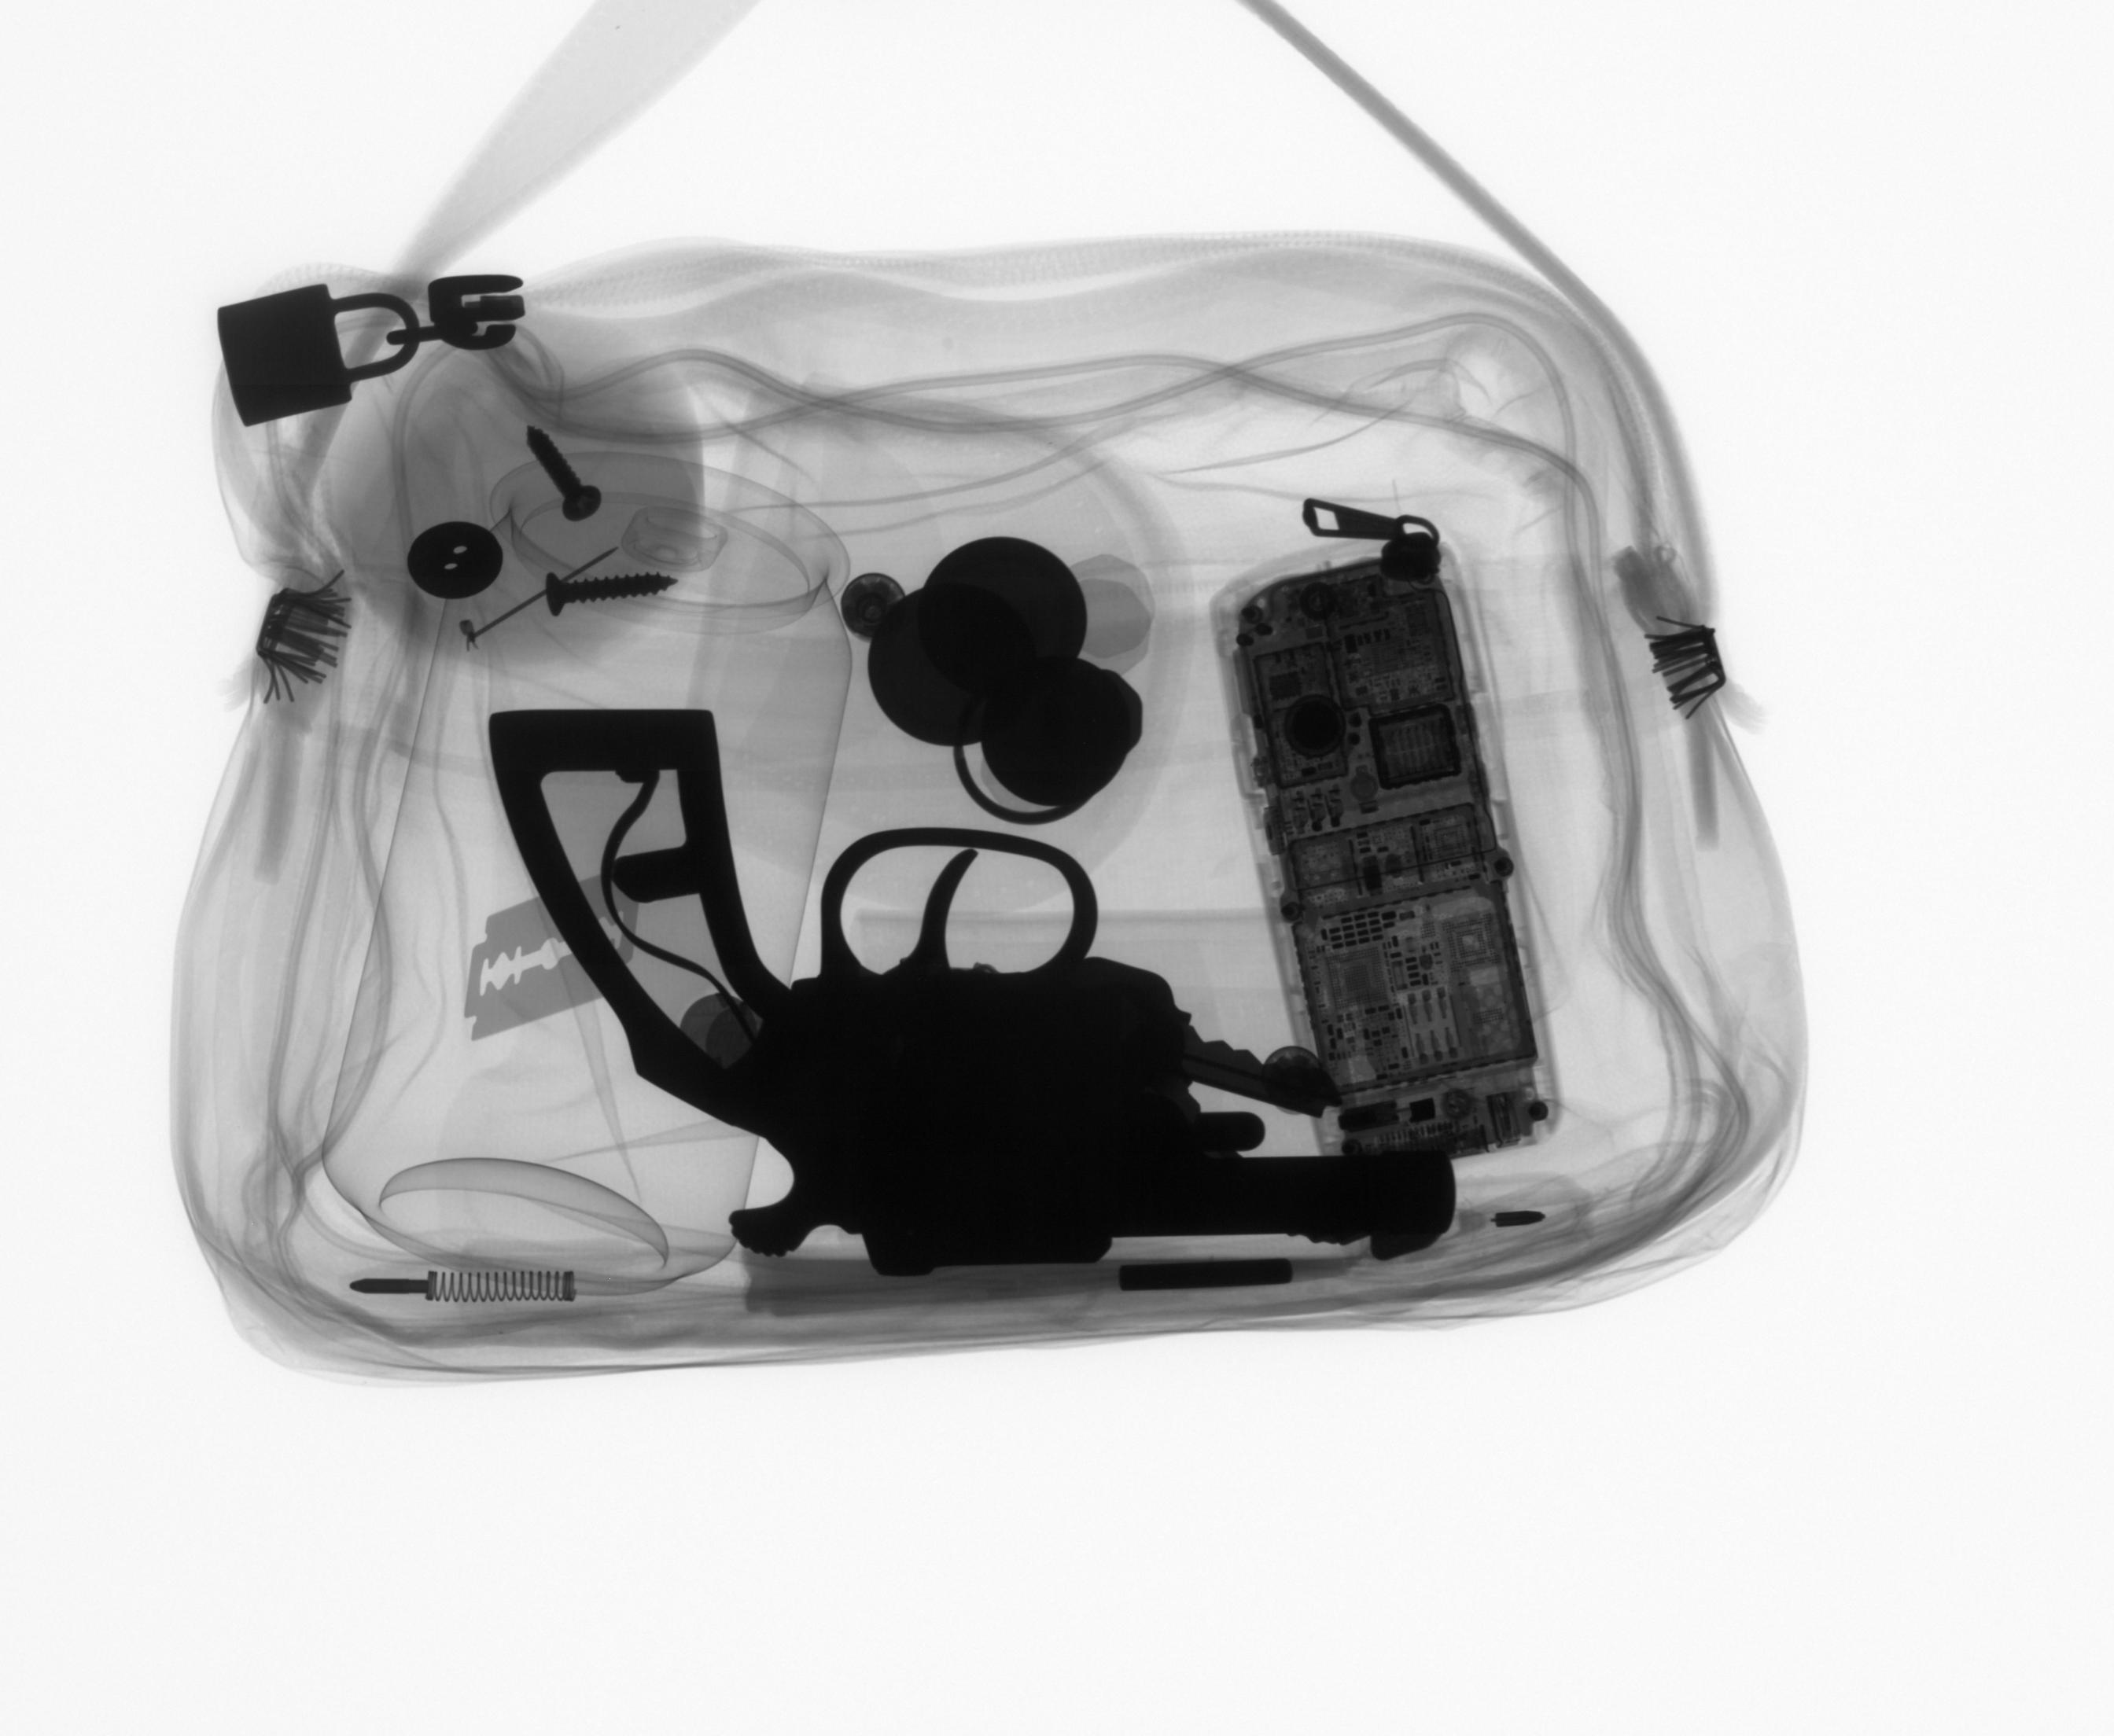Handgun: (455, 678, 1510, 1297)
RazorBlade: (449, 862, 625, 1051)
